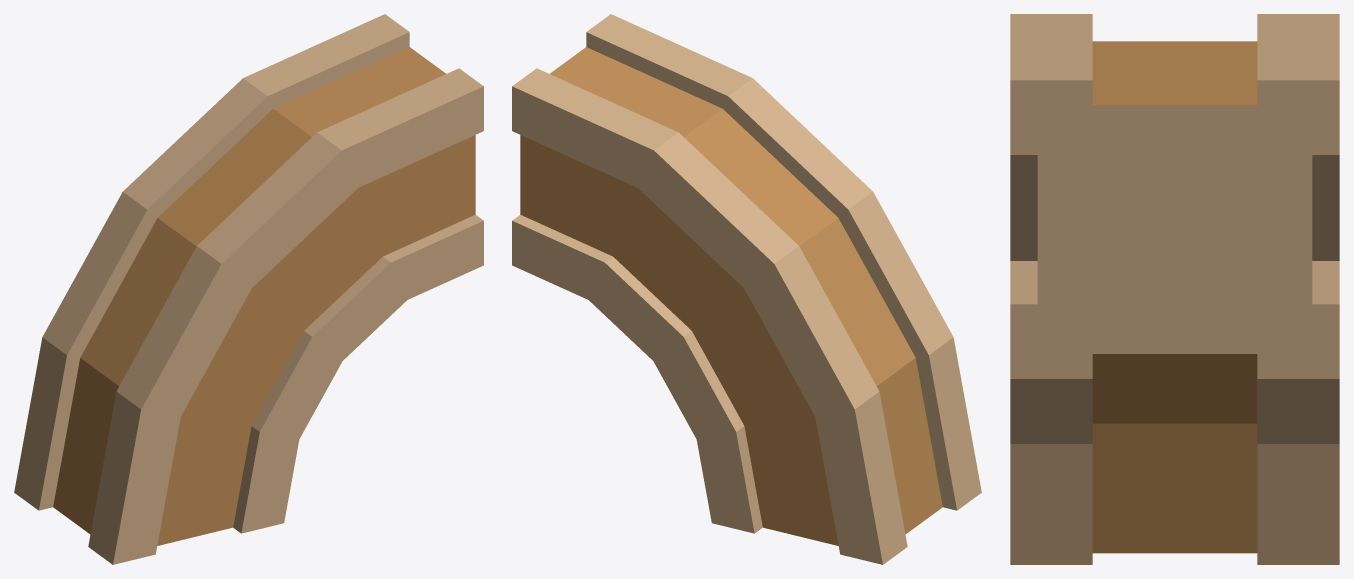
File: Pillar_Large_Arch.obj
The picture shows the model from 3 angles, left to right: view 1: azimuth 30°, elevation 25°; view 2: azimuth 150°, elevation 25°; view 3: azimuth 270°, elevation 25°; orthographic projection. The views are drawn at different scales.
Visible parts, largest first — view 1: object1; view 2: object1; view 3: object1.
Part boxes in pixels (x1,y1,x2,y2): object1: (14, 14, 483, 564); object1: (512, 14, 981, 564); object1: (1010, 14, 1339, 564).
Size of the model in its own units: 1.3 by 1.3 by 0.6.
